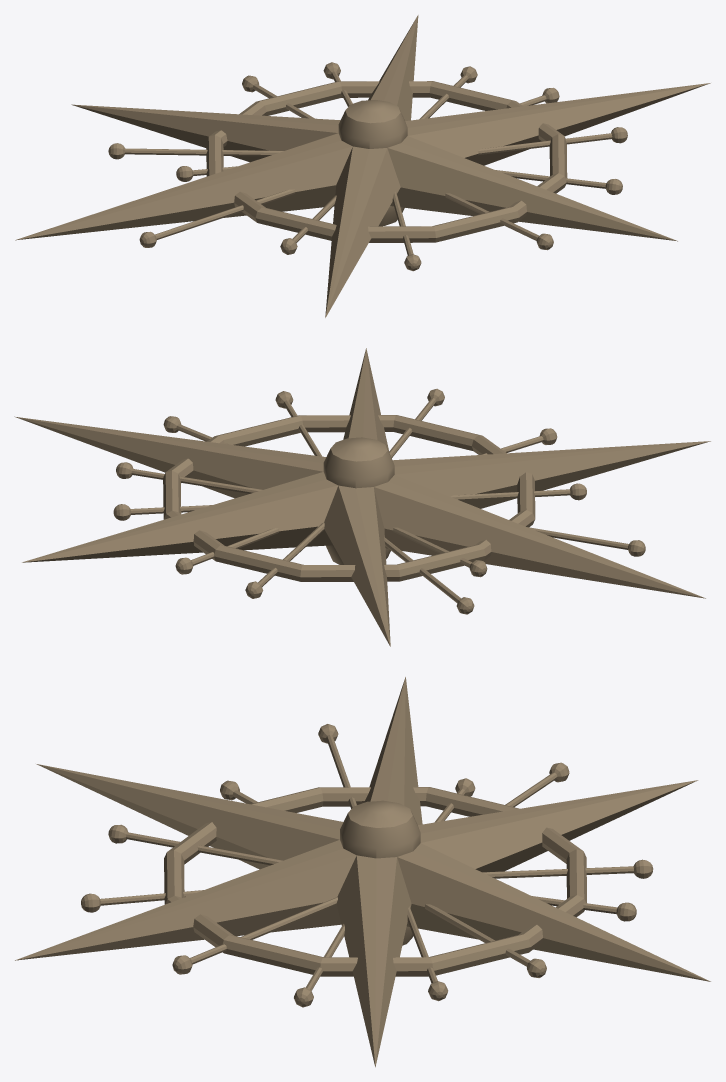
Rendered from molino.obj.
3 views of the same model, one above another, from view 1: azimuth 30°, elevation 25°; view 2: azimuth 150°, elevation 25°; view 3: azimuth 270°, elevation 25° (orthographic). The views are drawn at different scales.
Parts seen in each view (by area): view 1: pSphere24; view 2: pSphere24; view 3: pSphere24.
Part boxes in pixels (left/top/right/bottom): pSphere24: left=15, top=15, right=710, bottom=317; pSphere24: left=14, top=348, right=710, bottom=646; pSphere24: left=15, top=677, right=710, bottom=1067.
Size of the model in its own units: 6.22 by 1 by 4.68.
